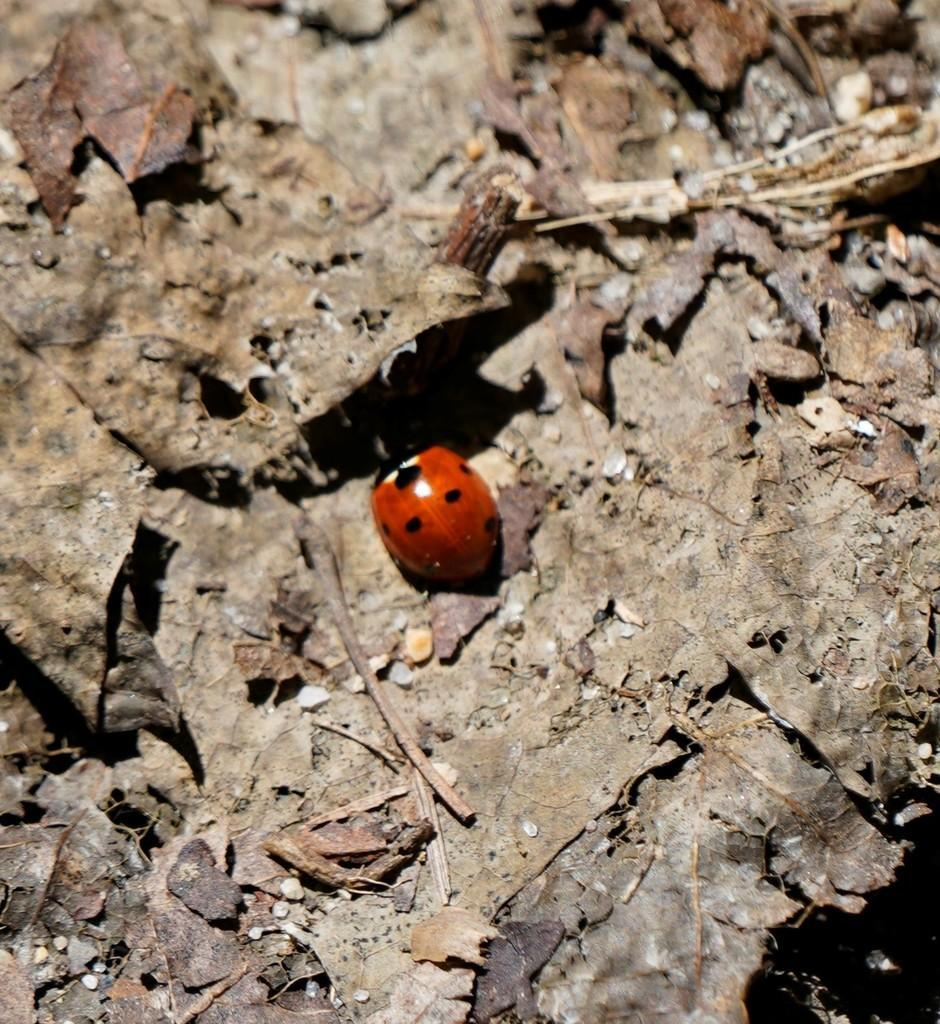ladybug: (369, 426, 509, 591)
